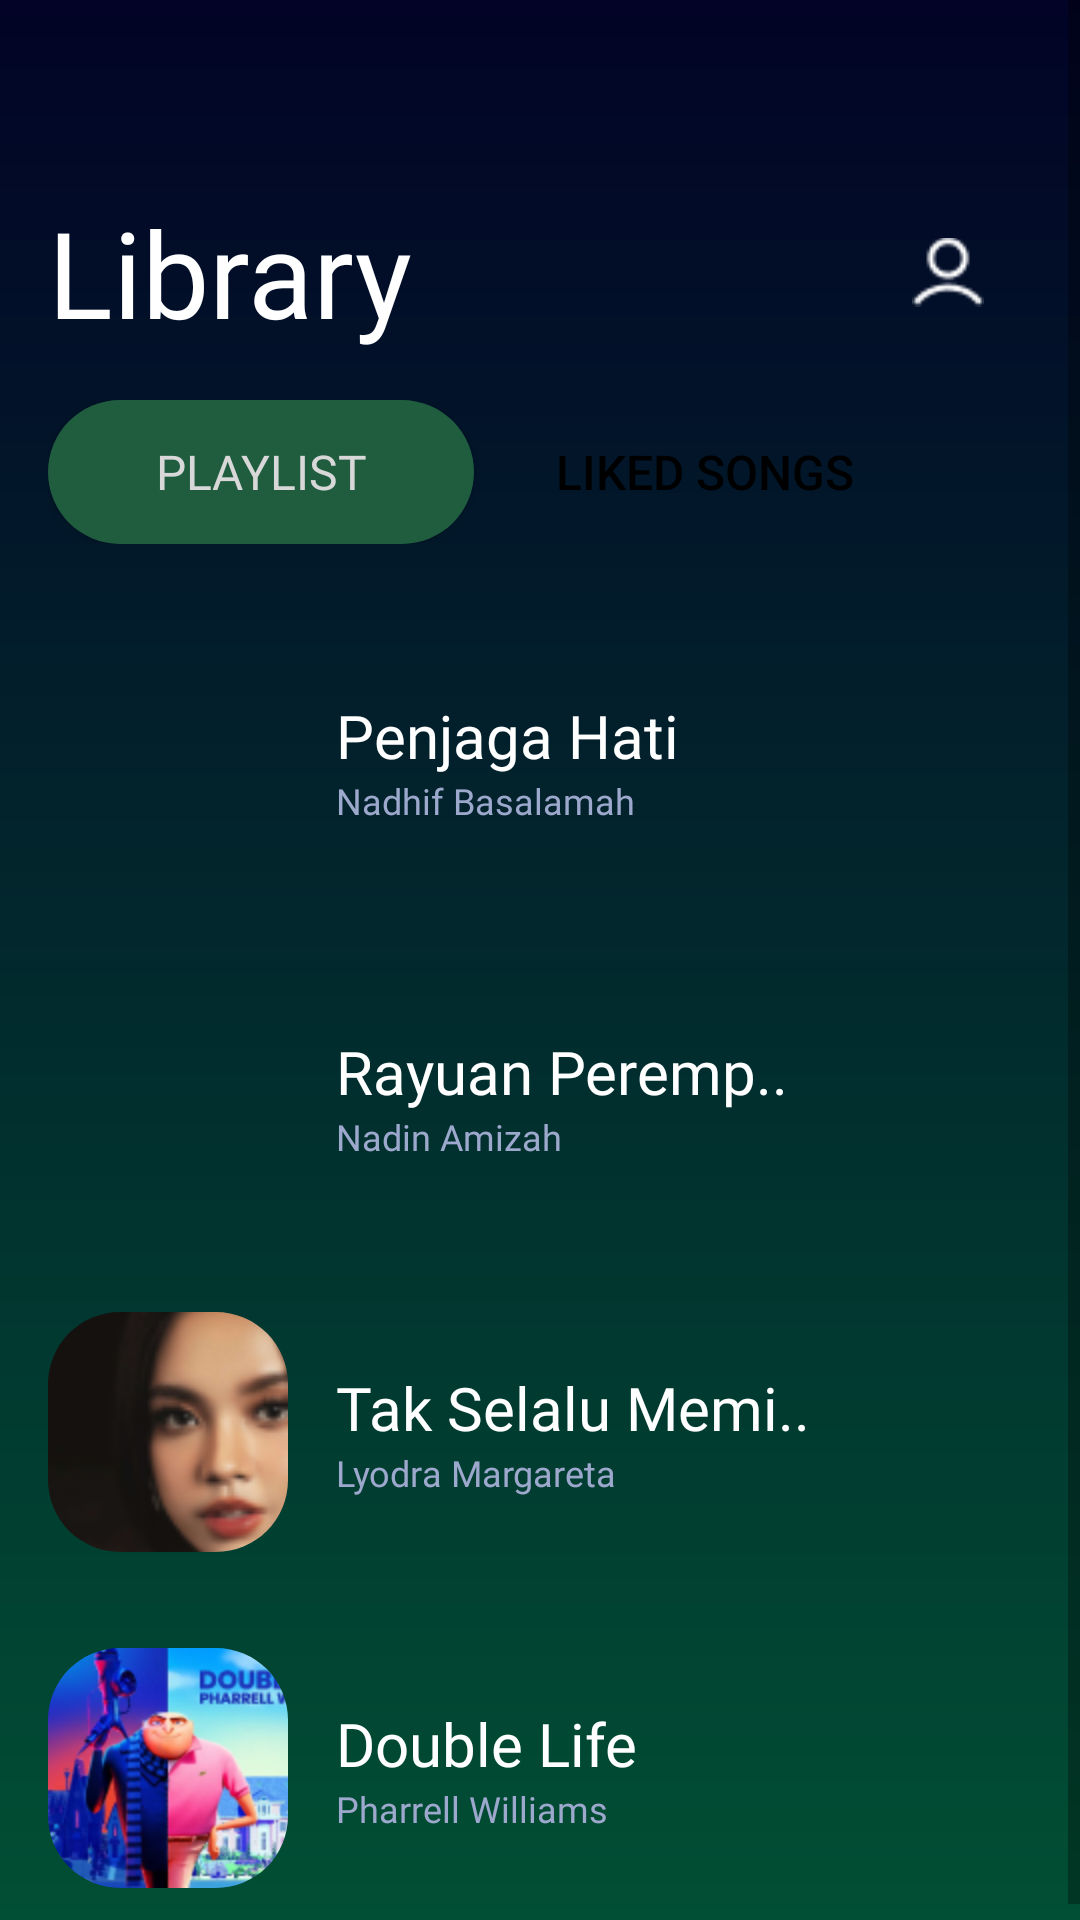

Named icons in this screenshot (1080*1920) and their centers, (x,y):
profile: (948,272)
